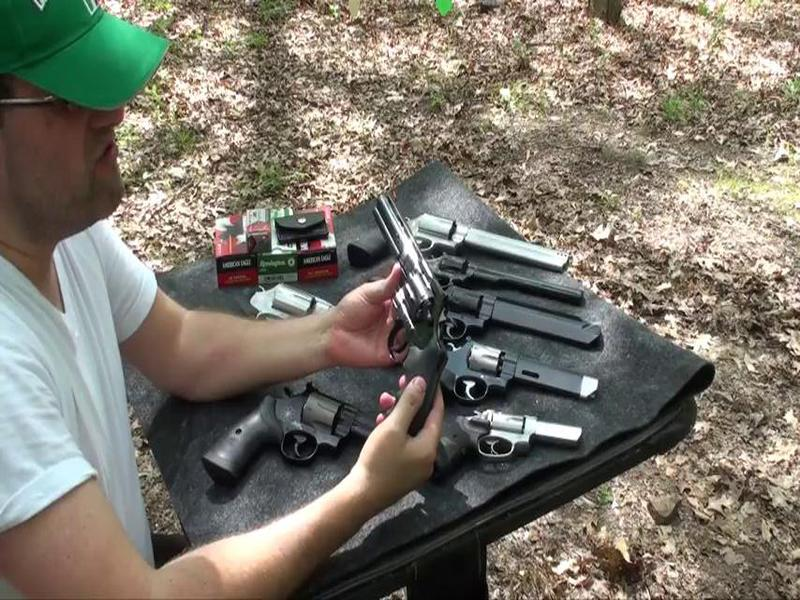Revolver: (337, 180, 448, 428)
